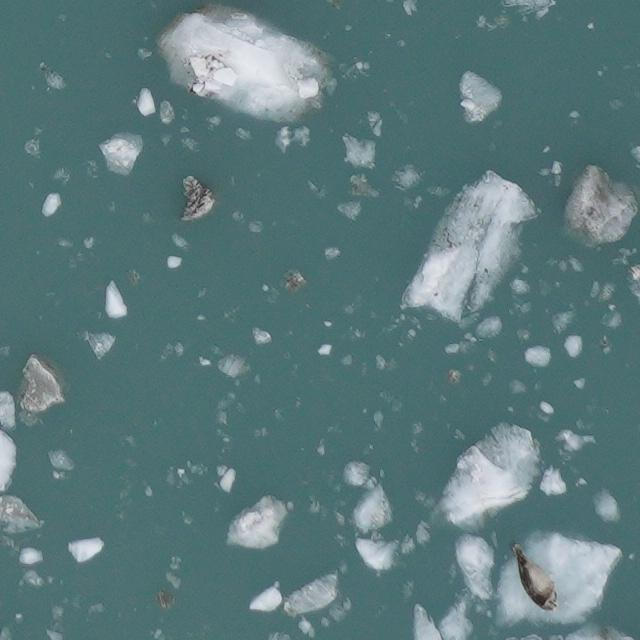seal: (507, 537, 561, 614)
